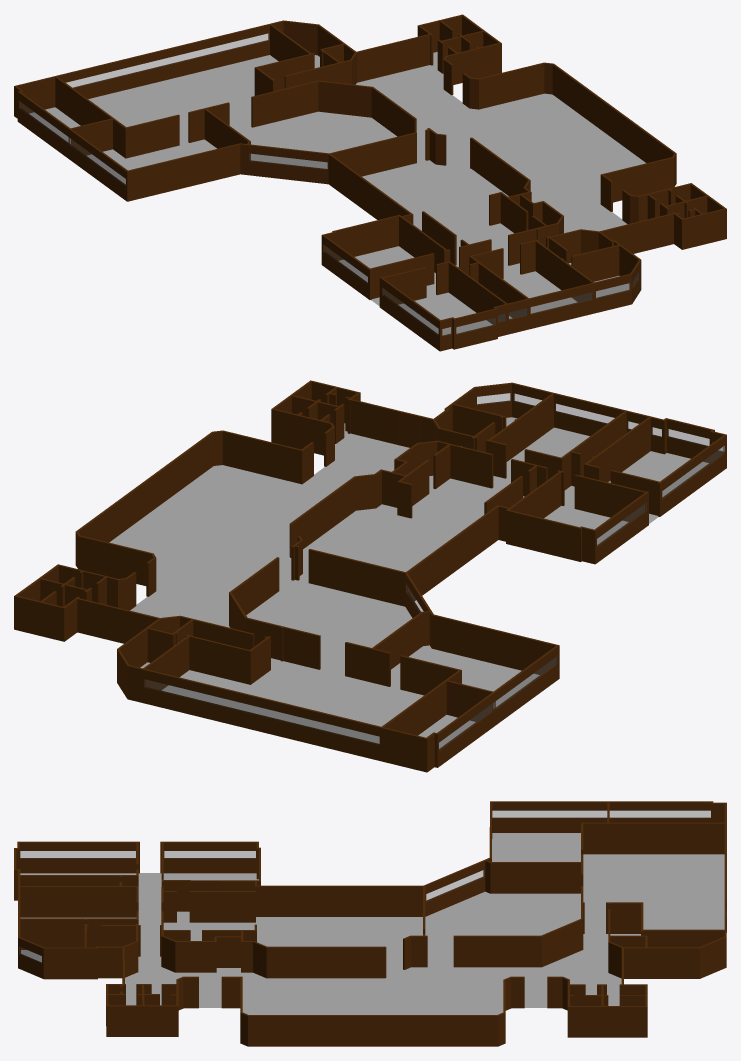
The picture shows the model from 3 angles, top to bottom: view 1: azimuth 30°, elevation 25°; view 2: azimuth 150°, elevation 25°; view 3: azimuth 270°, elevation 25°; orthographic projection. The views are drawn at different scales.
Parts seen in each view (by area): view 1: Plane.027, Plane.007; view 2: Plane.027, Plane.007; view 3: Plane.027, Plane.007.
Boxes of the visible parts, <box> form: Plane.027: <box>14,14,726,351</box>; Plane.007: <box>29,52,645,335</box>; Plane.027: <box>14,380,726,772</box>; Plane.007: <box>109,417,708,748</box>; Plane.027: <box>14,801,726,1046</box>; Plane.007: <box>20,833,724,1014</box>.
Bounding box in the file's own units: 44.98 × 3 × 63.16.
